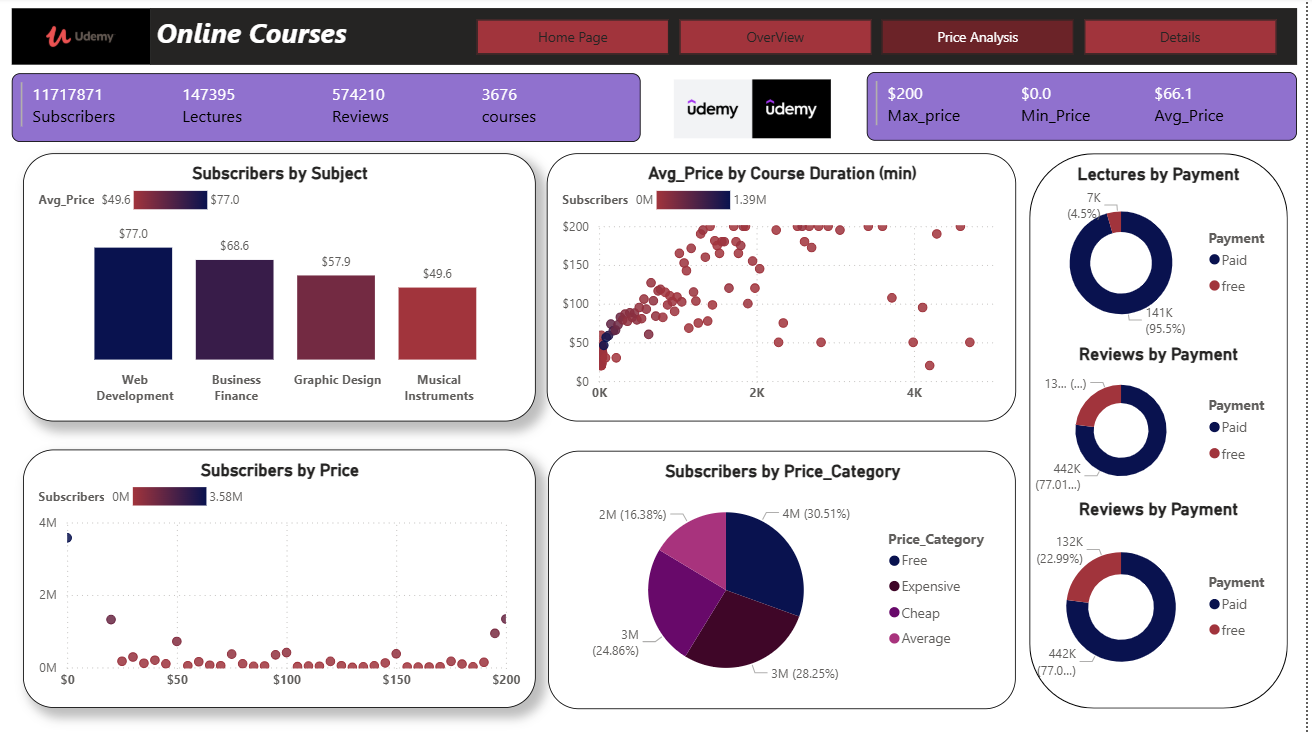

The dashboard page shown, as its layout file describes it:
{"tool":"powerbi","page":{"name":"Price Analysis","canvas":[1280,720],"ordinal":2},"visuals":[{"type":"image","box":[13.5,11,135.7,55],"z":0},{"type":"textbox","box":[149.2,11,1121.3,55],"z":1000},{"type":"multiRowCard","fields":{"Values":["udemy.Subscribers","udemy.Lectures","udemy.Reviews","udemy.courses"]},"box":[13.5,74.6,615.1,67.3],"z":2000},{"type":"multiRowCard","fields":{"Values":["udemy.Max_price","udemy.Min_Price","udemy.Avg_Price"]},"box":[849.9,73.4,420.7,67.3],"z":3000},{"type":"columnChart","title":"Subscribers by Subject","fields":{"Category":["udemy.subject"],"Y":["udemy.Avg_Price"]},"box":[24.1,153,501.2,262.7],"z":4000},{"type":"scatterChart","title":"Subscribers by Price","fields":{"X":["udemy.price"],"Y":["udemy.Subscribers"]},"box":[24.1,442.2,501.2,253],"z":5000},{"type":"scatterChart","title":"Avg_Price by Course Duration (min)","fields":{"X":["udemy.Course_Duration"],"Y":["udemy.Avg_Price"]},"box":[537.3,153,459,262.7],"z":6000},{"type":"pieChart","fields":{"Category":["udemy.Price_Category"],"Y":["udemy.Subscribers"]},"box":[538.6,443.4,457.8,253],"z":7000},{"type":"donutChart","fields":{"Category":["udemy.Payment"],"Y":["udemy.Lectures"]},"box":[1008.4,162.7,253,175.9],"z":8000},{"type":"donutChart","fields":{"Category":["udemy.Payment"],"Y":["udemy.Reviews"]},"box":[1008.4,338.6,253,151.8],"z":9000},{"type":"donutChart","fields":{"Category":["udemy.Payment"],"Y":["udemy.Reviews"]},"box":[1008.4,490.4,253,194],"z":10000},{"type":"shape","box":[1008.4,153,253,543.4],"z":11000},{"type":"image","box":[639.5,75.8,196.9,67.3],"z":12000},{"type":"pageNavigator","box":[468.3,22,785.1,34.2],"z":13000}]}

Visuals, with their boxes in screenshot pixels (x1, y1, x2, y2), scaled from the page's 1280x720 canvas onto the 1312x733 screenshot:
image: box(14, 11, 153, 67)
textbox: box(153, 11, 1302, 67)
multiRowCard - udemy.Subscribers x udemy.Lectures: box(14, 76, 644, 144)
multiRowCard - udemy.Max_price x udemy.Min_Price: box(871, 75, 1302, 143)
"Subscribers by Subject" columnChart: box(25, 156, 538, 423)
"Subscribers by Price" scatterChart: box(25, 450, 538, 708)
"Avg_Price by Course Duration (min)" scatterChart: box(551, 156, 1021, 423)
pieChart - udemy.Price_Category x udemy.Subscribers: box(552, 451, 1021, 709)
donutChart - udemy.Payment x udemy.Lectures: box(1034, 166, 1293, 345)
donutChart - udemy.Payment x udemy.Reviews: box(1034, 345, 1293, 499)
donutChart - udemy.Payment x udemy.Reviews: box(1034, 499, 1293, 697)
shape: box(1034, 156, 1293, 709)
image: box(655, 77, 857, 146)
pageNavigator: box(480, 22, 1285, 57)
